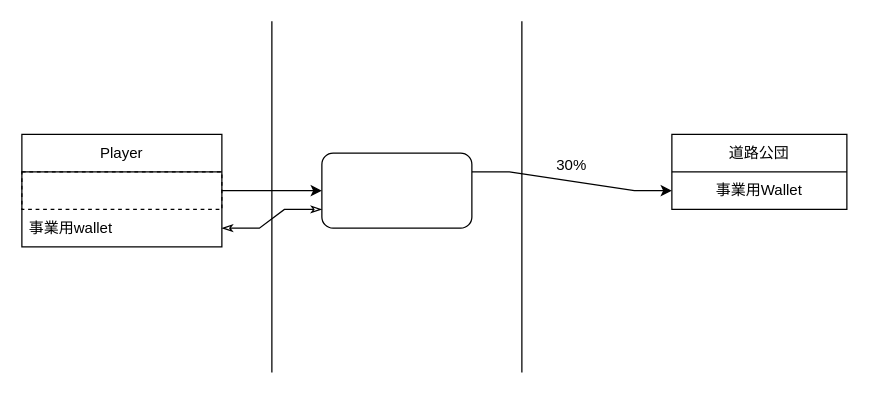
The diagram is 869 pixels wide and 394 high, and some of its shapes have lost their labels. Each missing label, with the centre of its shape:
Private wallet: (121,190)
税金プール: (396,190)
